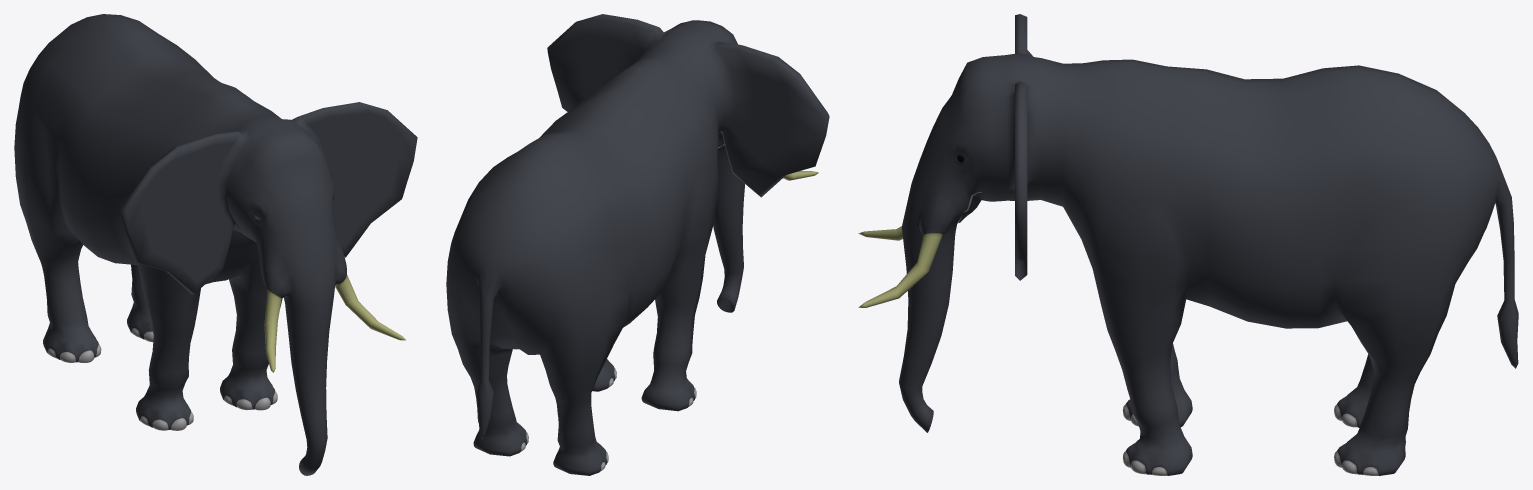
File: elephant.obj
3 views of the same model, side by side, from view 1: azimuth 30°, elevation 25°; view 2: azimuth 150°, elevation 25°; view 3: azimuth 270°, elevation 25° (orthographic). The views are drawn at different scales.
Visible parts, largest first — view 1: elephant; view 2: elephant; view 3: elephant.
Boxes of the visible parts, x1,y1,x2,y2 form: elephant: (14, 14, 417, 475); elephant: (446, 14, 829, 475); elephant: (858, 14, 1518, 475).
Bounding box in the file's own units: 2.82 × 3.01 × 4.75.
